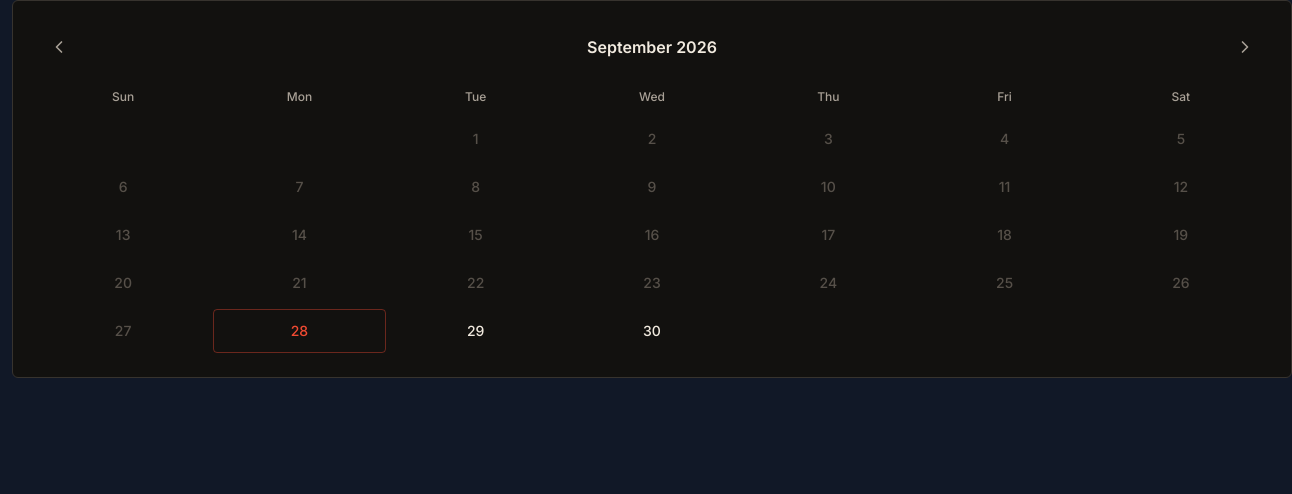
it: InChatCalendar › offers the email fallback instead of unbookable times
Click the button "28" at [299, 331], box top-left (213, 309), bottom-right (386, 353)
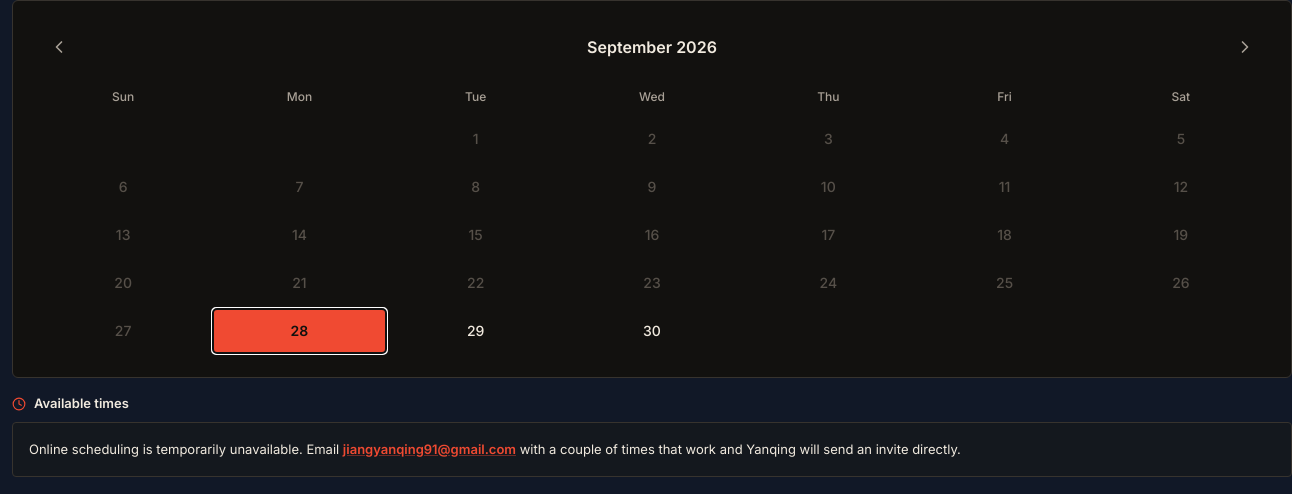
Expected: the text "temporarily unavailable" is shown, top-left (29, 440), bottom-right (339, 456)
